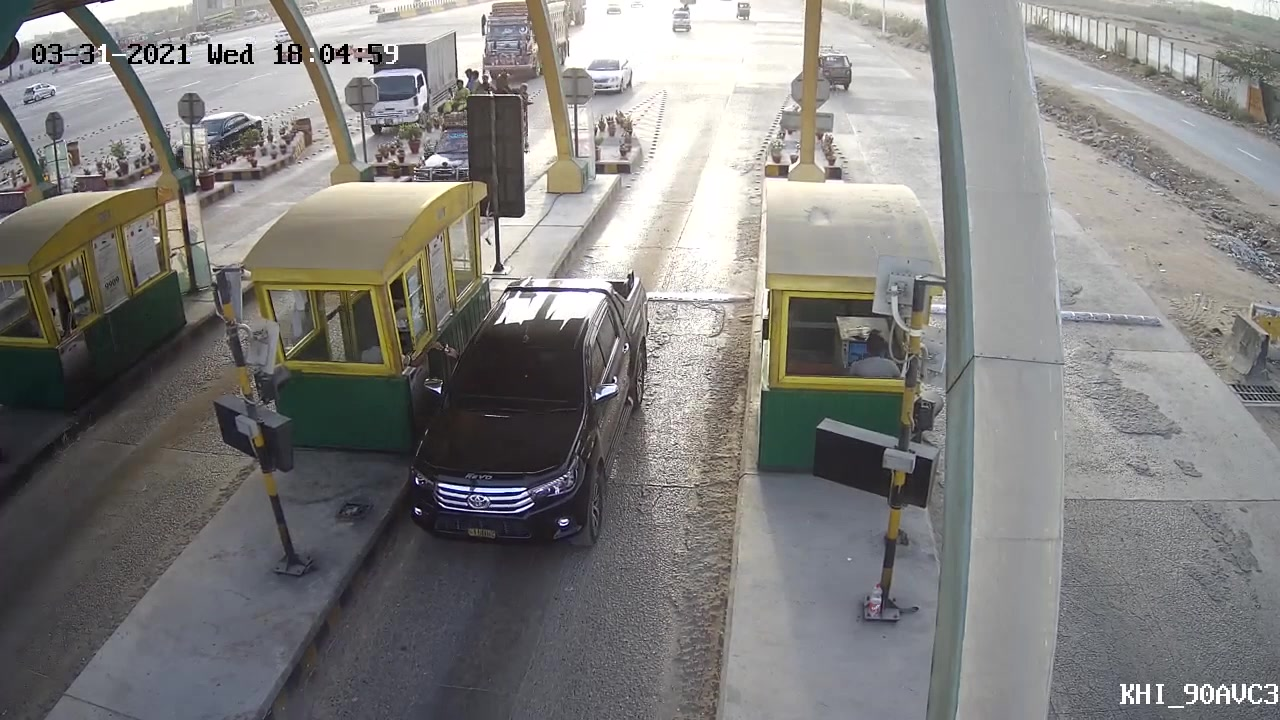F1: (390, 258, 655, 557)
